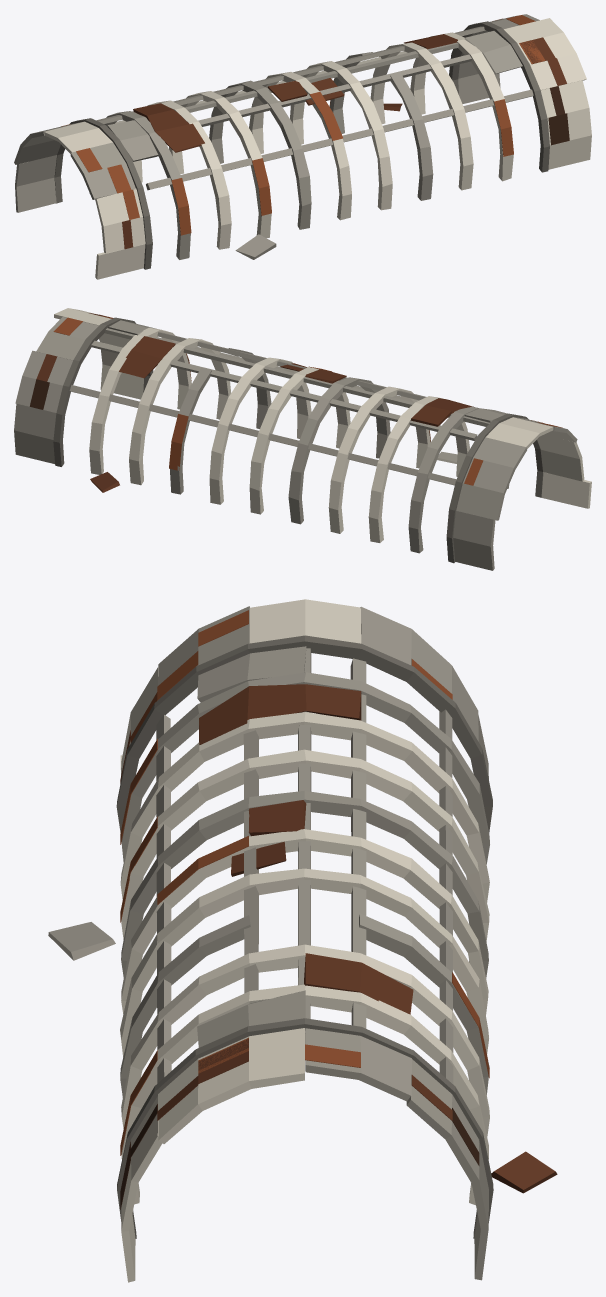
File: ship_cage.glb
The picture shows the model from 3 angles, top to bottom: view 1: azimuth 30°, elevation 25°; view 2: azimuth 150°, elevation 25°; view 3: azimuth 270°, elevation 25°; orthographic projection. The views are drawn at different scales.
Parts seen in each view (by area): view 1: ship_cage; view 2: ship_cage; view 3: ship_cage.
Boxes of the visible parts, box(x1,y1,x2,y2) form: ship_cage: box(14, 14, 591, 279); ship_cage: box(14, 308, 591, 570); ship_cage: box(48, 599, 557, 1282).
Size of the model in its own units: 98.8 by 20.9 by 44.25.
